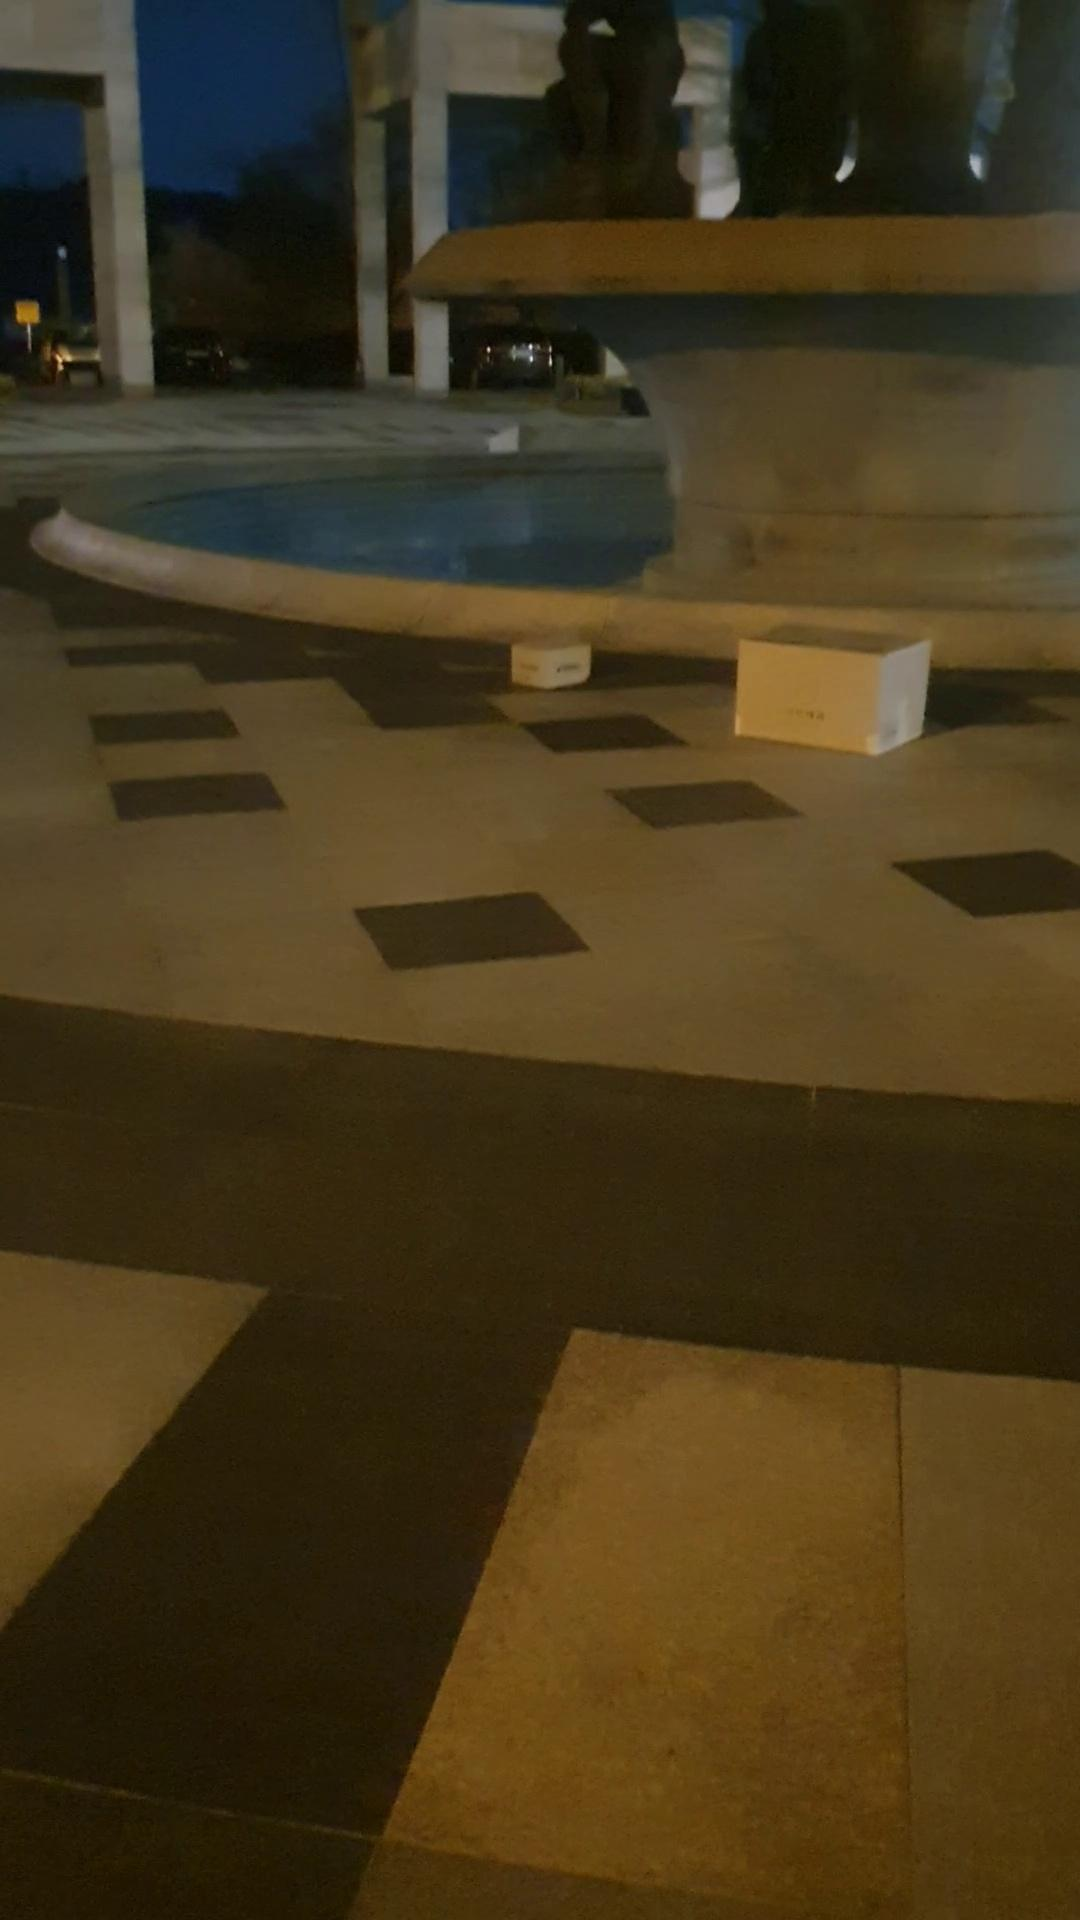Box: (731, 615, 935, 757), (496, 618, 615, 698)
